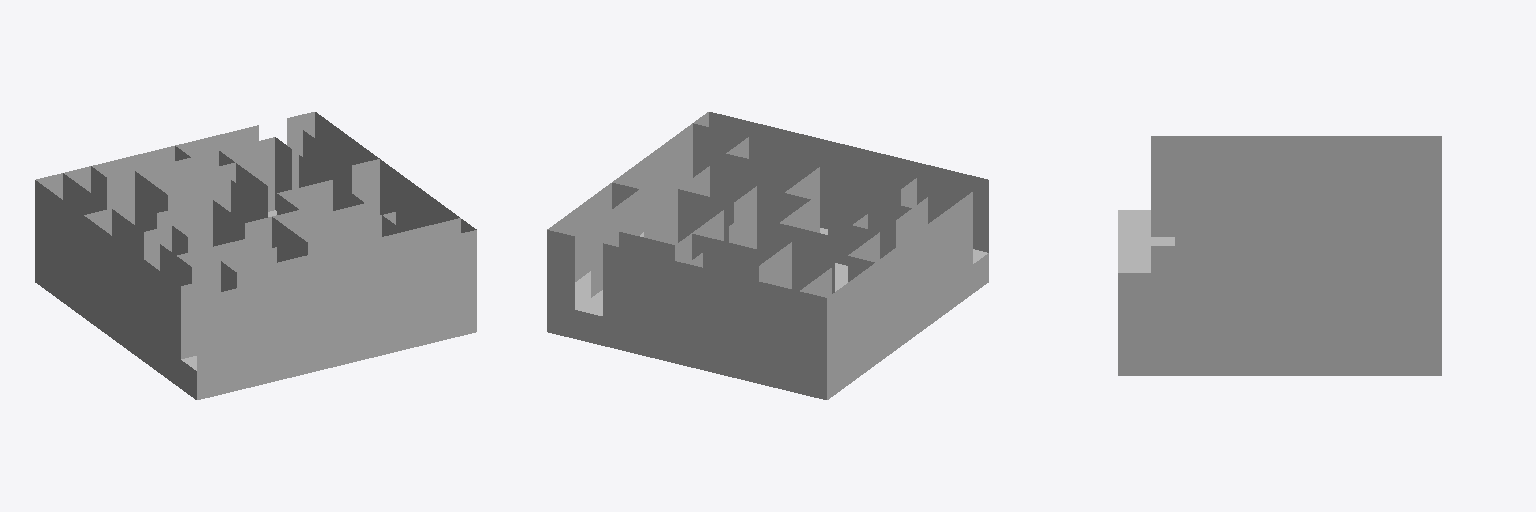
The model's file is Code_autodesk_maze_why_Idk.stl.obj.
The picture shows the model from 3 angles: view 1: azimuth 30°, elevation 25°; view 2: azimuth 150°, elevation 25°; view 3: azimuth 270°, elevation 25°; orthographic projection.
Parts seen in each view (by area): view 1: <STL_BINARY>; view 2: <STL_BINARY>; view 3: <STL_BINARY>.
Part boxes in pixels (x1,y1,x2,y2): <STL_BINARY>: (35,112,476,399); <STL_BINARY>: (547,112,988,399); <STL_BINARY>: (1118,136,1441,375).
Size of the model in its own units: 100 by 35 by 100.